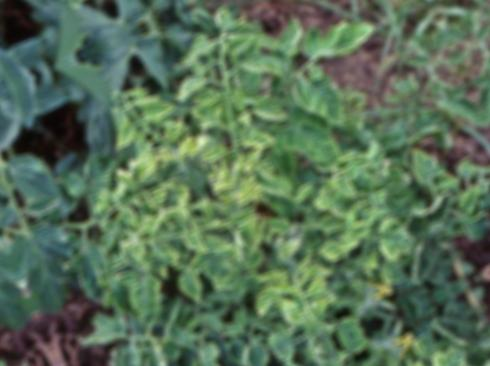Tomato mold leaf: (4, 215, 104, 331), (291, 0, 387, 73), (276, 106, 349, 180), (290, 68, 357, 143), (67, 297, 136, 358), (187, 227, 246, 292), (121, 270, 175, 328), (370, 210, 424, 264), (265, 9, 317, 64), (239, 45, 294, 95), (168, 262, 213, 311), (400, 138, 444, 188), (170, 336, 239, 366), (130, 329, 184, 366), (230, 330, 278, 366), (99, 337, 158, 366), (249, 281, 289, 317), (239, 122, 279, 157), (260, 210, 295, 243), (329, 169, 361, 205), (311, 235, 346, 267)
